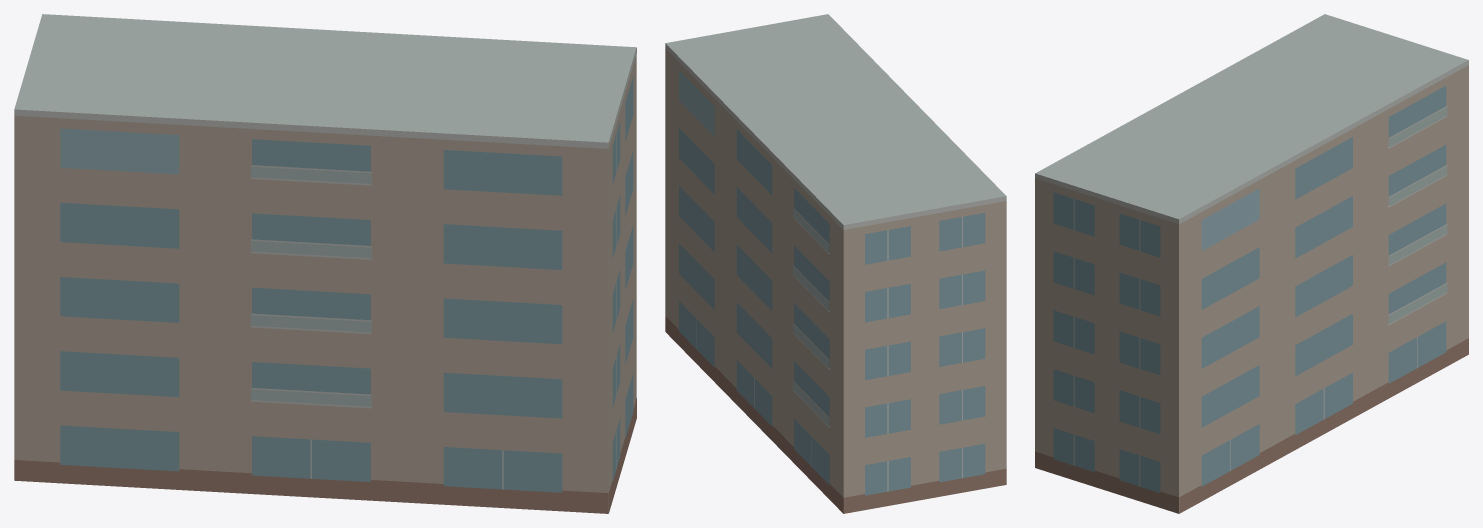
Rendered from survey-upis-32670711.glb.
3 renders of one model, left to right at view 1: azimuth 30°, elevation 25°; view 2: azimuth 150°, elevation 25°; view 3: azimuth 270°, elevation 25°, orthographic. The views are drawn at different scales.
Parts seen in each view (by area): view 1: survey-upis-32670711.tmp; view 2: survey-upis-32670711.tmp; view 3: survey-upis-32670711.tmp.
Part boxes in pixels (x1=…): survey-upis-32670711.tmp: x1=14, y1=14, x2=636, y2=513; survey-upis-32670711.tmp: x1=665, y1=14, x2=1006, y2=513; survey-upis-32670711.tmp: x1=1035, y1=14, x2=1468, y2=513.
Size of the model in its own units: 21.7 by 14.5 by 19.36.
